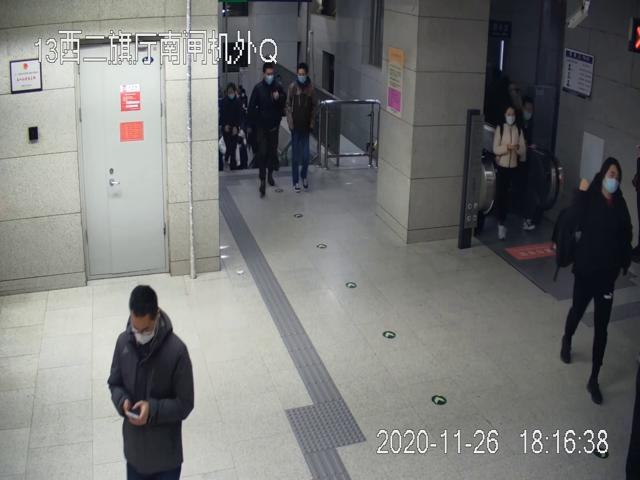person: (561, 158, 633, 403), (106, 283, 195, 480), (249, 60, 285, 199), (493, 107, 527, 242), (285, 62, 318, 192)
